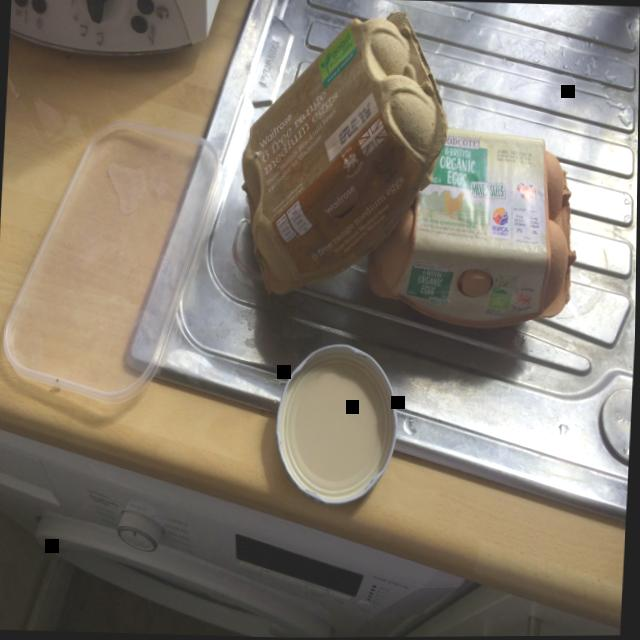Egg carton: (242, 12, 448, 295), (367, 128, 577, 328)
Metal lid: (277, 344, 398, 505)
Plastic lid: (4, 120, 223, 403)
